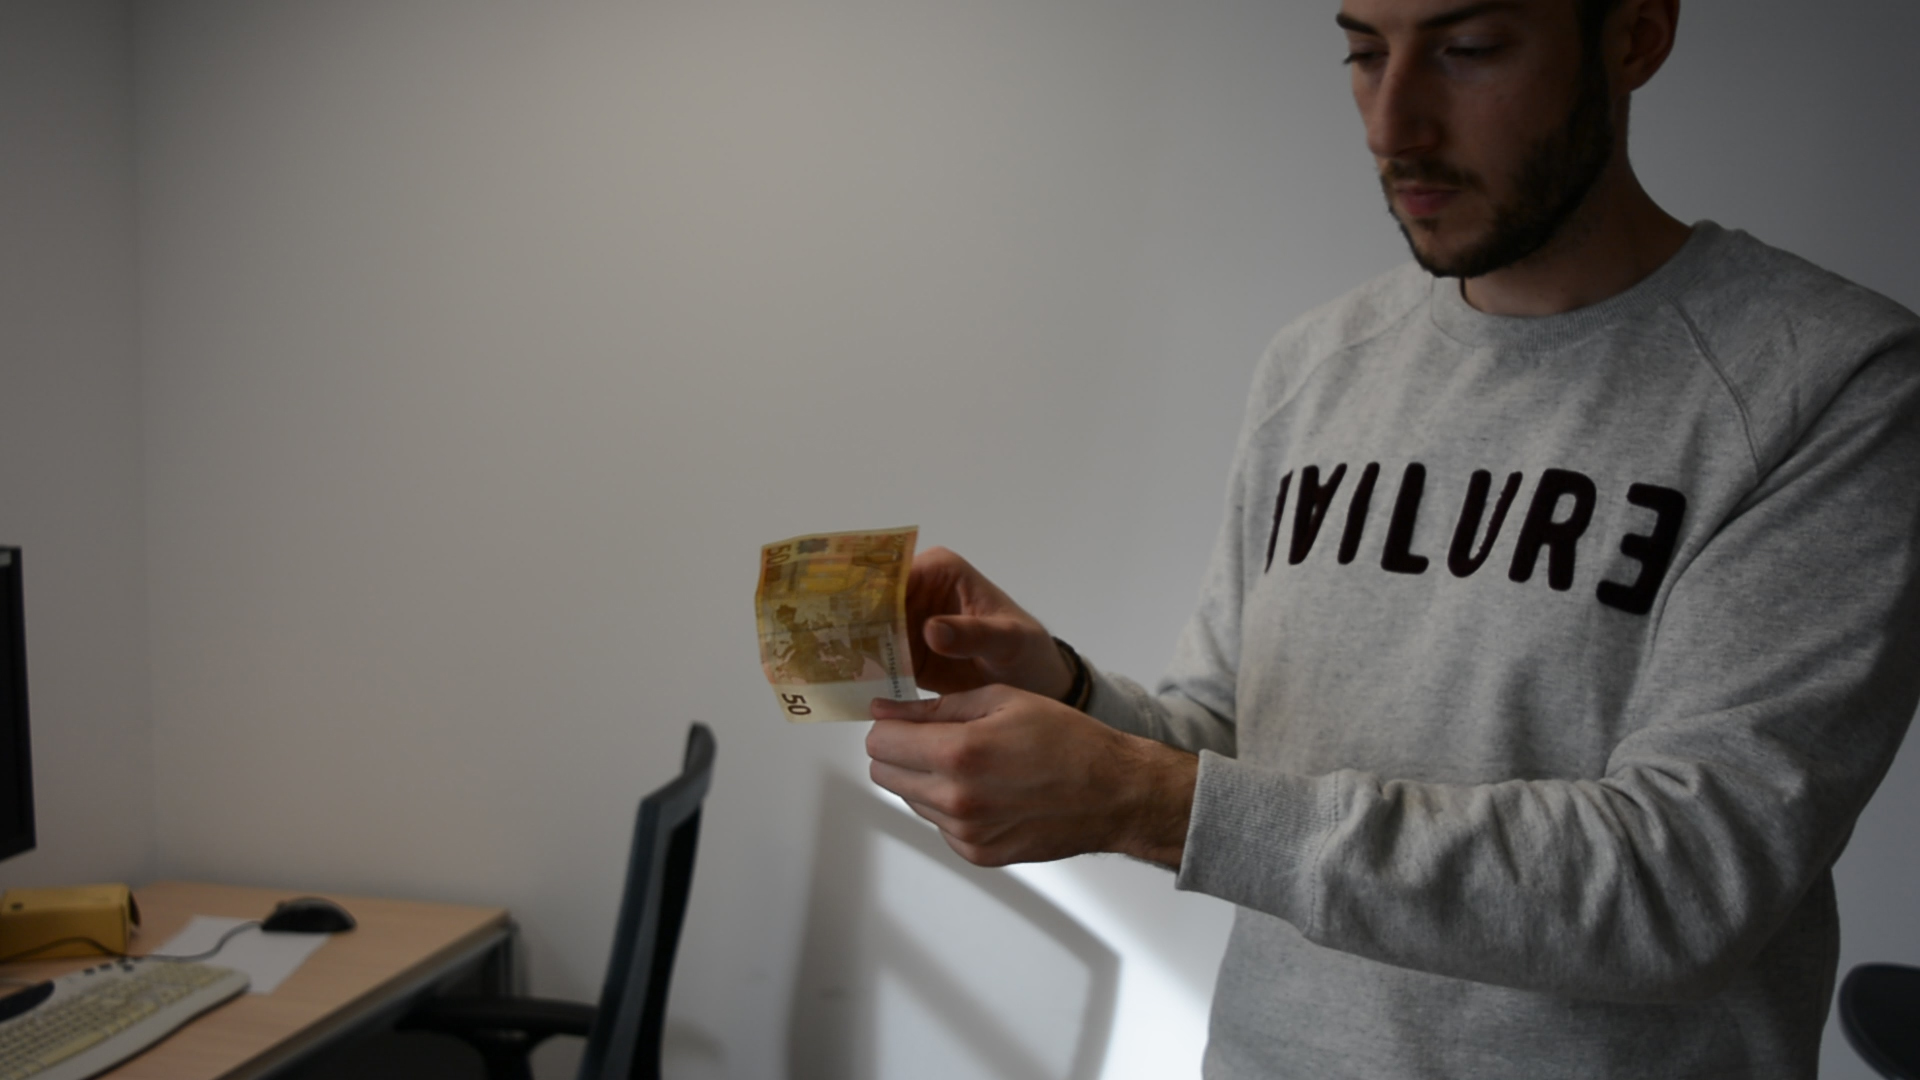billete: (754, 524, 922, 727)
